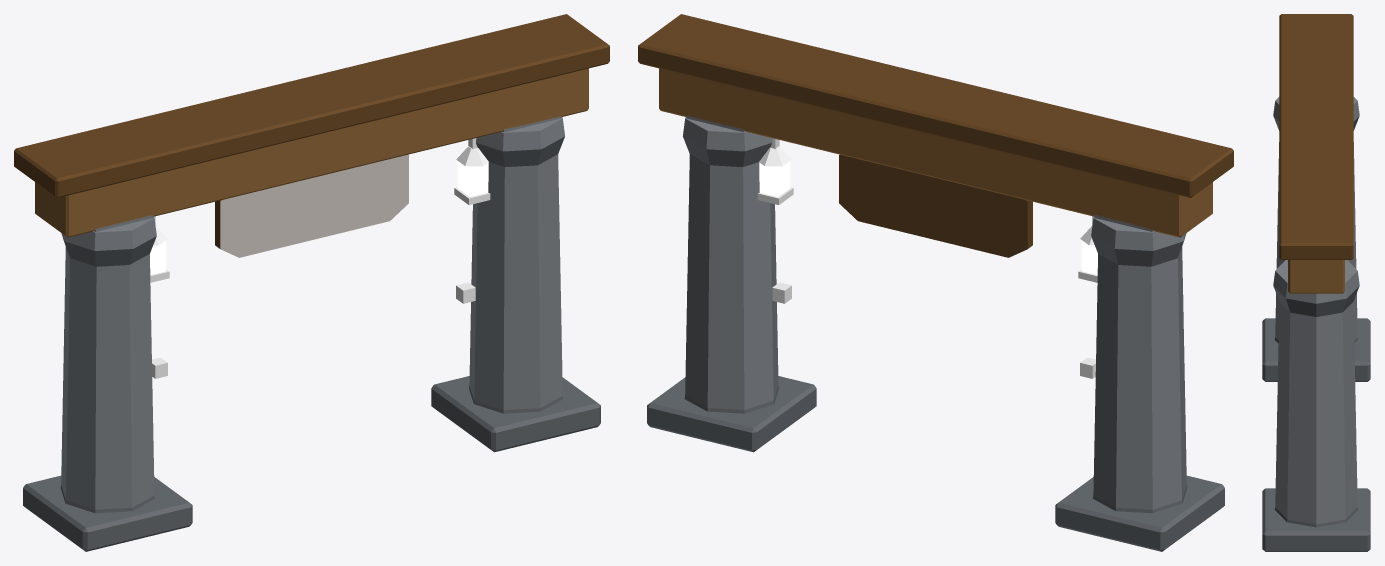
The model's file is tier_gate.glb.
3 renders of one model, left to right at view 1: azimuth 30°, elevation 25°; view 2: azimuth 150°, elevation 25°; view 3: azimuth 270°, elevation 25°, orthographic. The views are drawn at different scales.
Visible parts, largest first — view 1: TierGate; view 2: TierGate; view 3: TierGate.
Part boxes in pixels (left/top/right/bottom): TierGate: left=14, top=14, right=609, bottom=551; TierGate: left=638, top=14, right=1233, bottom=551; TierGate: left=1262, top=14, right=1370, bottom=551.
Size of the model in its own units: 5.3 by 3.39 by 1.05.
